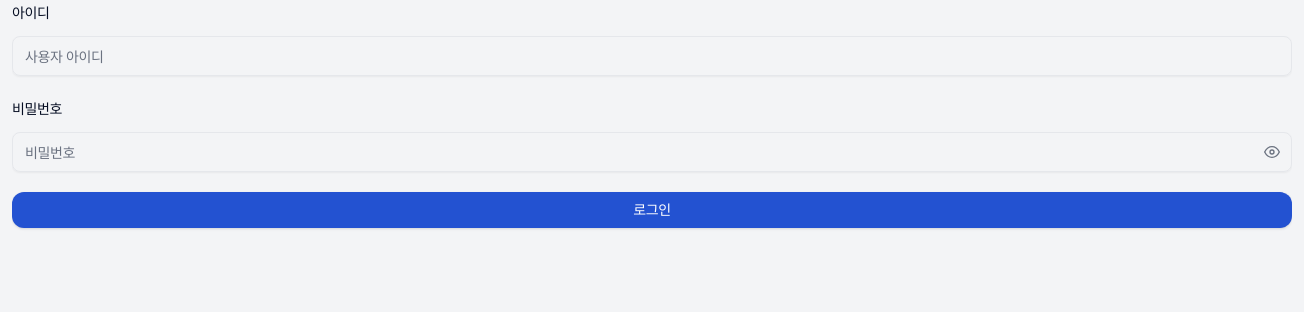
Test: LoginForm › shows error message on login failure
The width and height of the screenshot is (1304, 312).
Type "wrong" into the field labelled "아이디" at (652, 56), box [12,36,1292,76]
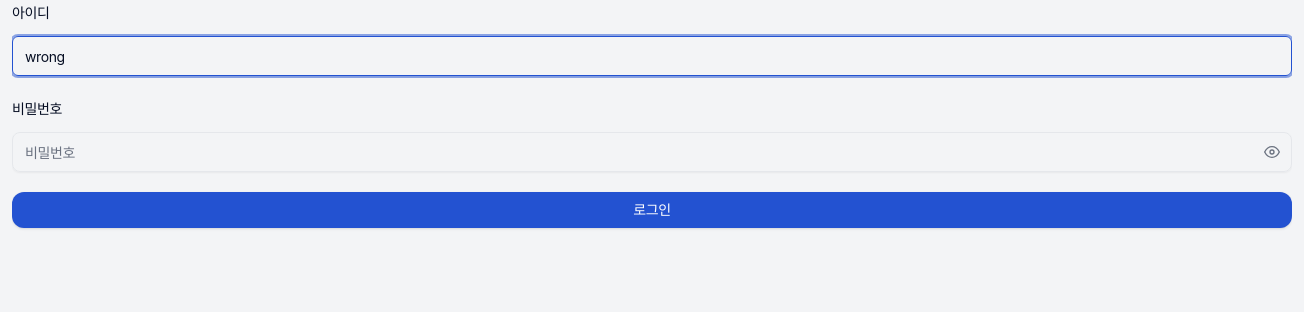
Type "wrong" into the password field labelled "비밀번호" at (652, 152), box [12,132,1292,172]
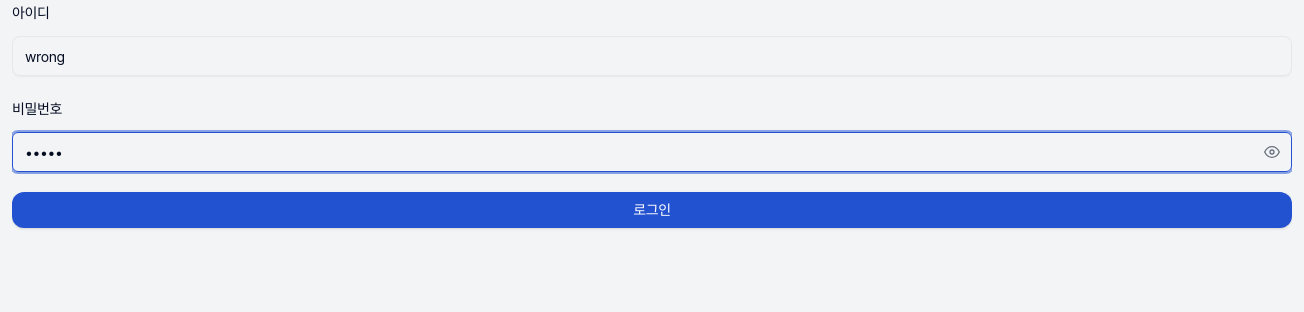
Click the button "로그인" at (652, 210), box [12,192,1292,228]
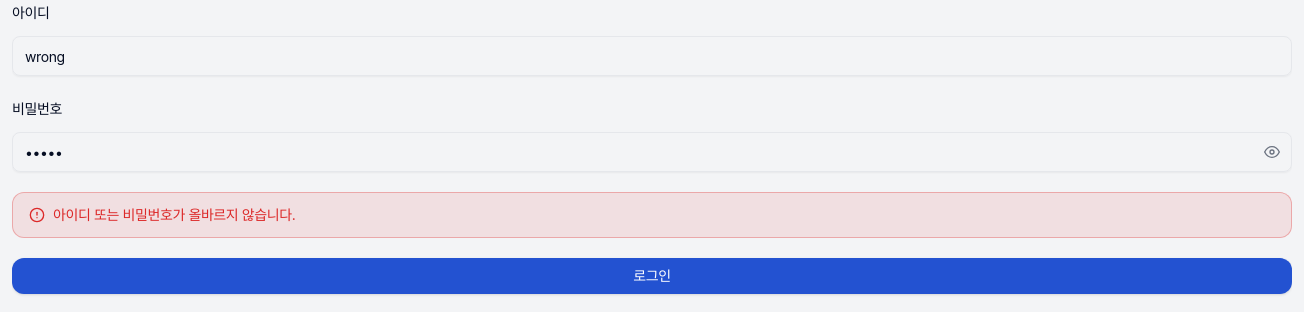
Expected: the message reads "아이디 또는 비밀번호가 올바르지 않습니다.", [53,206,295,223]
